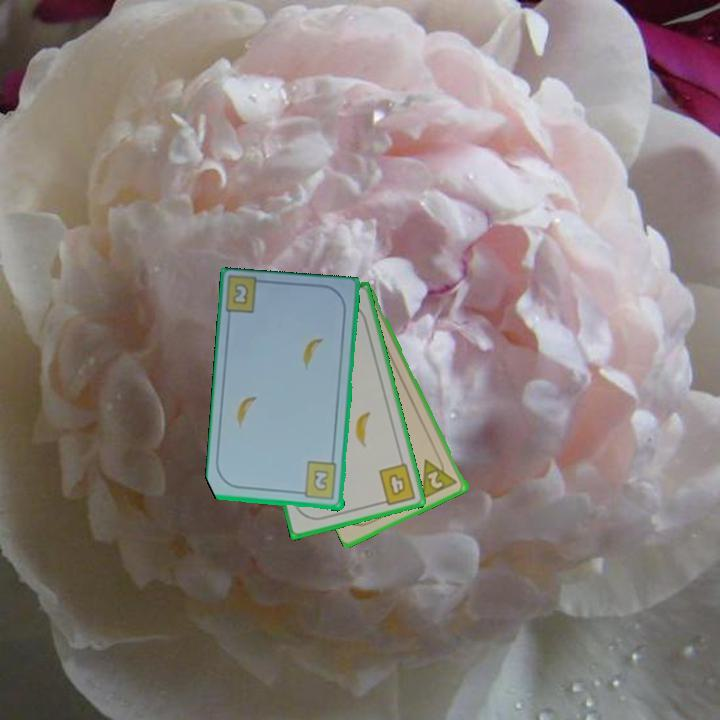2b: (295, 459, 340, 503), (229, 280, 251, 308)
2p: (418, 451, 460, 502)
4b: (375, 460, 419, 508)
